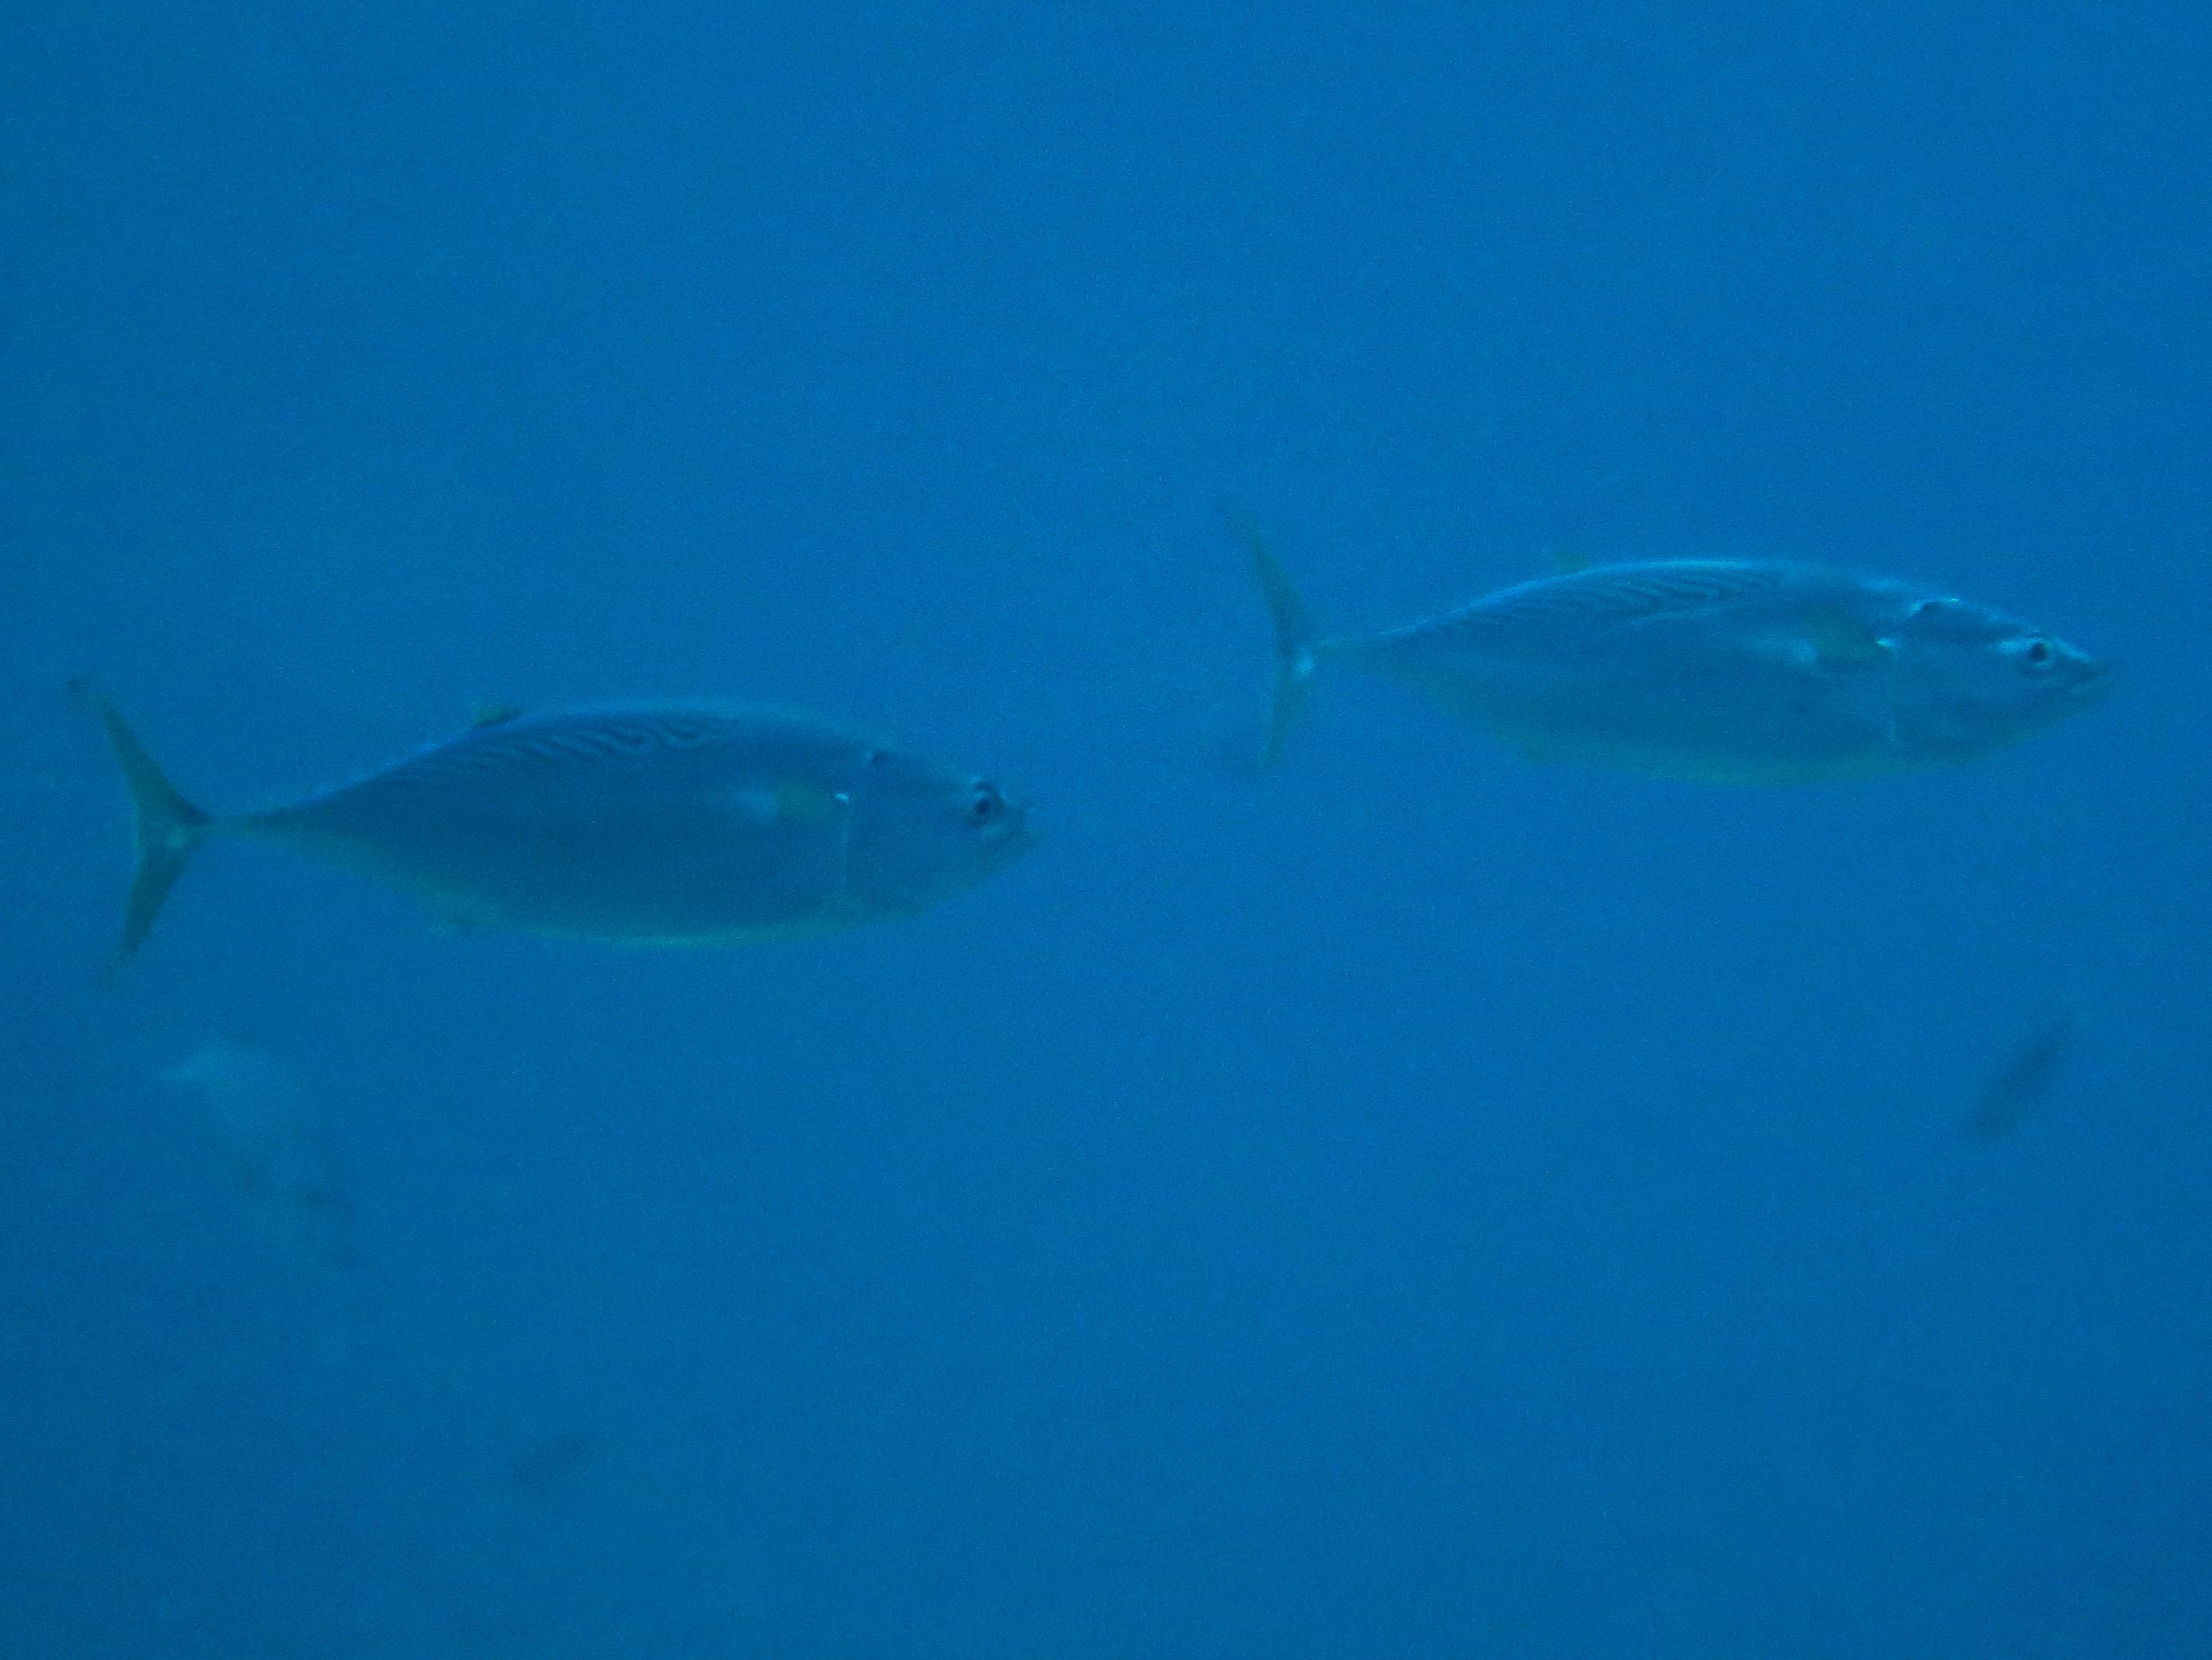Fish: (58, 656, 1060, 983), (1218, 502, 2135, 792)
